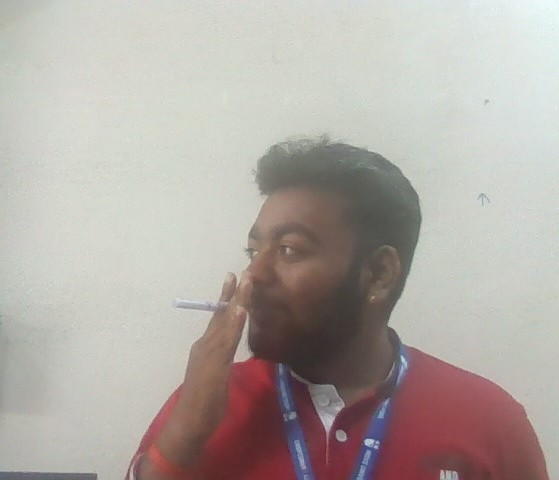smoking: (171, 271, 256, 424)
